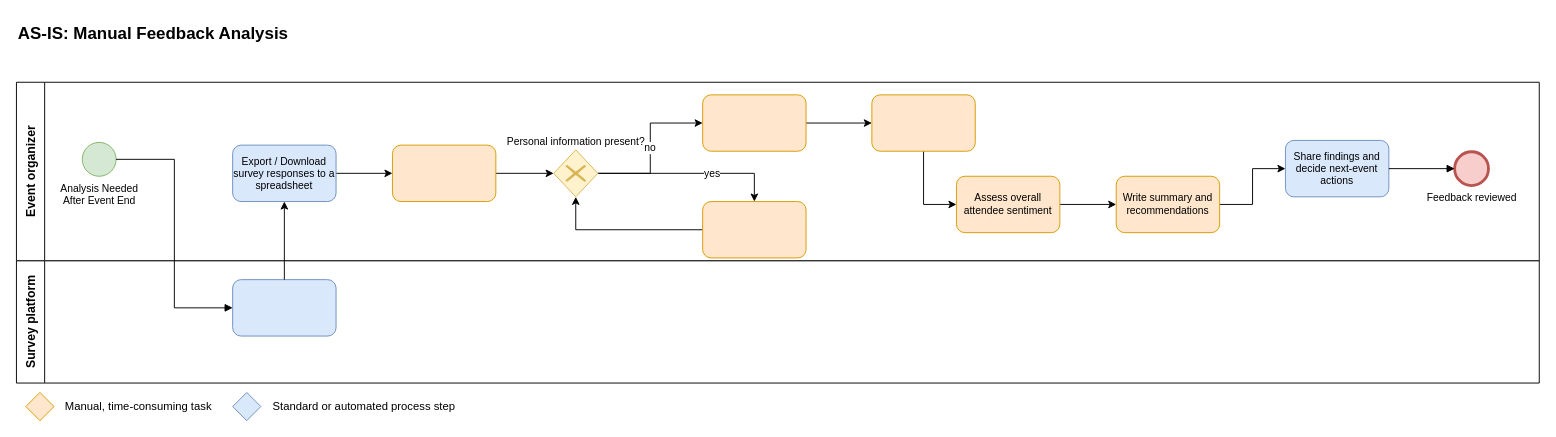
The diagram is 1556 pixels wide and 437 high, and some of its shapes have lost their labels. Each missing label, with the centre of its shape:
"Collect responses (Google Forms / Typeform)" goes at pixel 284 307.
"Identify complaints and recurring issues" goes at pixel 923 122.
"Identify positive feedback themes" goes at pixel 754 122.
"Manually remove identifying details" goes at pixel 754 229.
"Review responses individually" goes at pixel 444 173.
